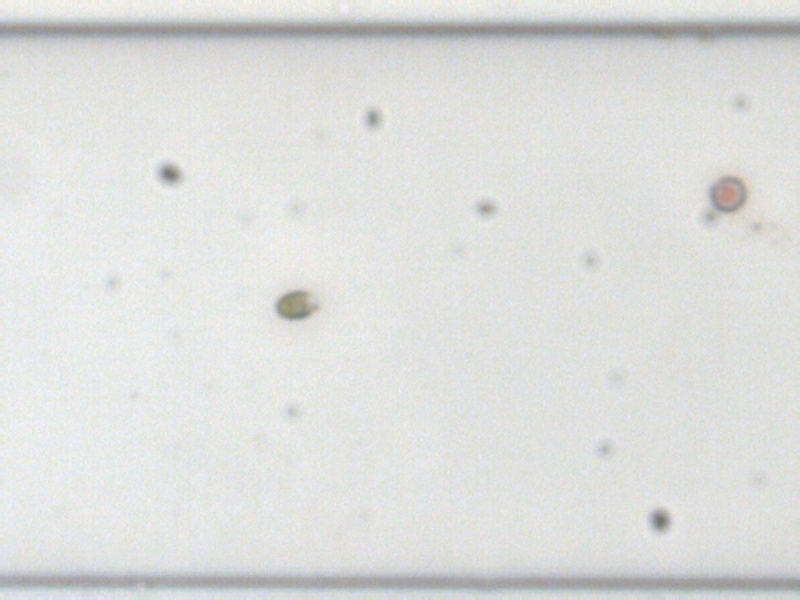Dunaliella salina: (272, 286, 321, 321)
Porphyridium: (706, 173, 747, 213)
